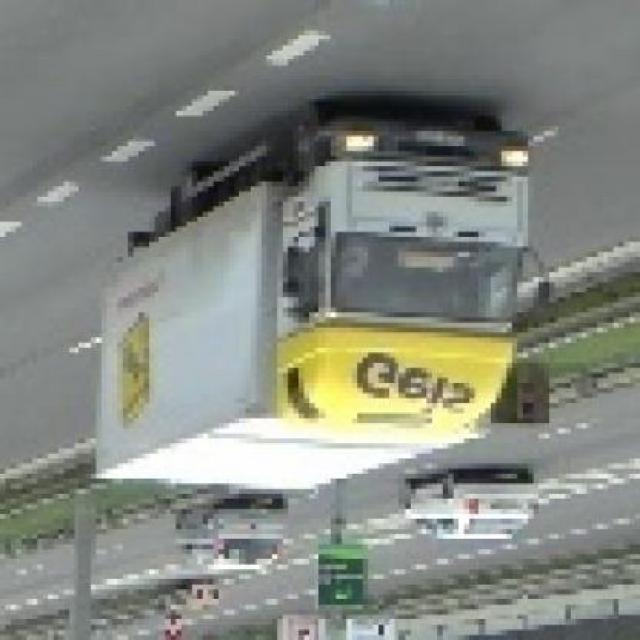truck: (103, 107, 561, 495)
